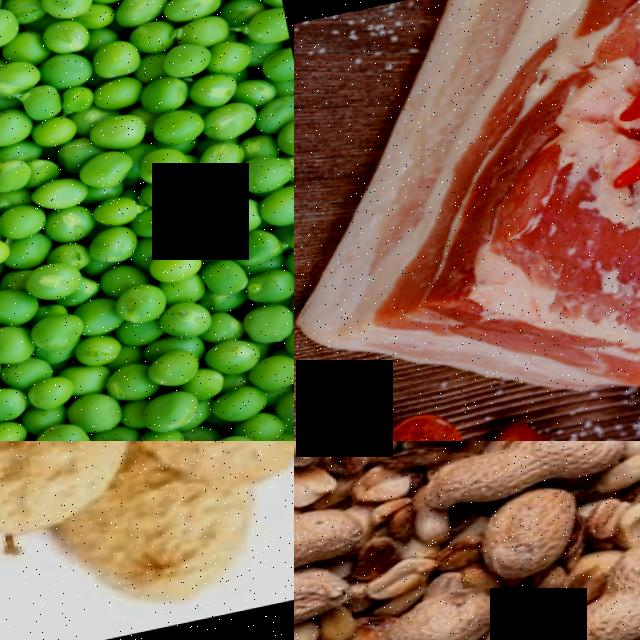peanuts: (417, 441, 628, 519), (100, 441, 294, 503), (473, 488, 590, 588), (294, 502, 370, 580), (294, 559, 353, 640), (594, 522, 640, 617)
peas: (0, 0, 294, 441)
pork belly: (294, 0, 640, 437)
